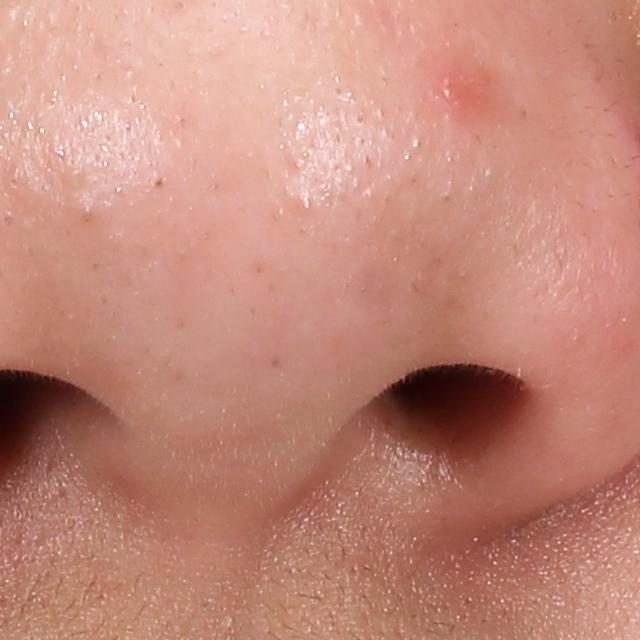comedo: (149, 173, 171, 193)
